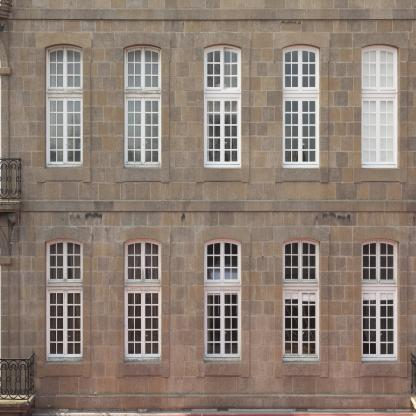Building Outline: (0, 0, 416, 408)
Facade: (0, 0, 416, 408)
Floor: (1, 20, 416, 201), (1, 359, 28, 401), (1, 158, 21, 201)
Floor Slab: (1, 9, 416, 20), (1, 201, 416, 212)
Ground Floor: (1, 213, 416, 412)
Window: (45, 237, 83, 363), (124, 237, 162, 363), (203, 237, 241, 363), (45, 43, 83, 169), (124, 43, 162, 169), (204, 43, 242, 169), (282, 43, 320, 169), (361, 237, 399, 362), (282, 237, 320, 362), (362, 43, 399, 169)
